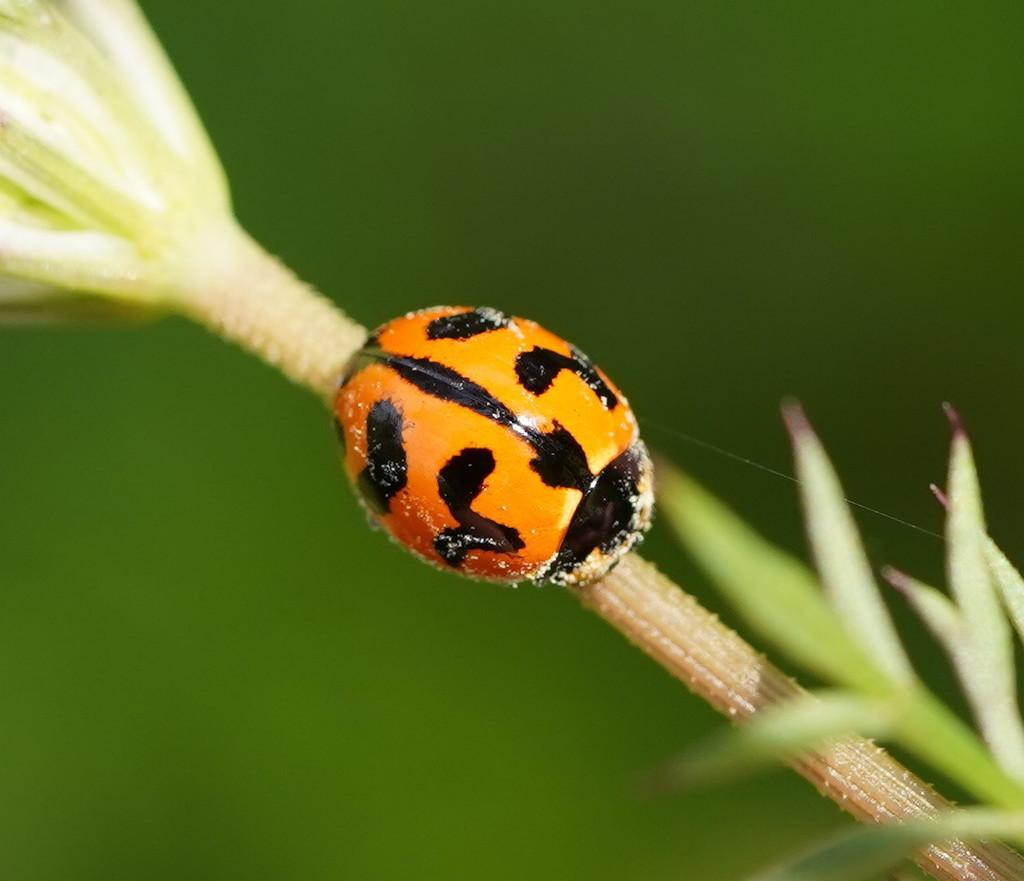ladybug: (334, 304, 661, 596)
